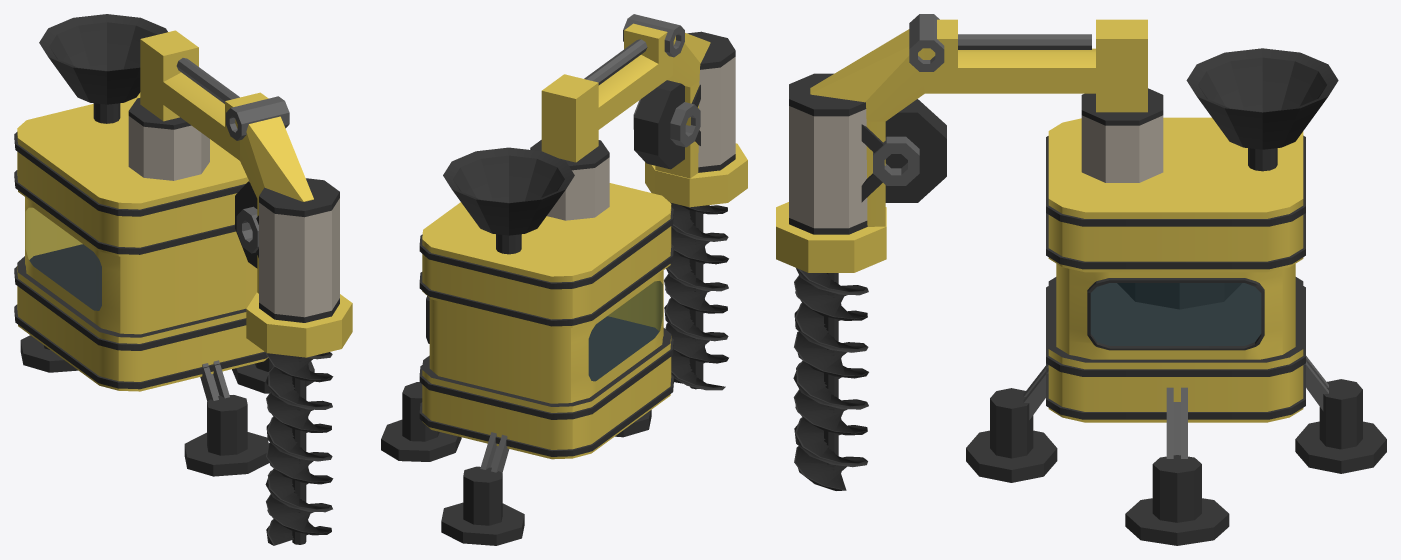
File: Anim_SolidExtractorCicle.fbx
3 views of the same model, side by side, from view 1: azimuth 30°, elevation 25°; view 2: azimuth 150°, elevation 25°; view 3: azimuth 270°, elevation 25° (orthographic). The views are drawn at different scales.
Visible parts, largest first — view 1: extract_solid, extract_solid7, extract_solid6, pCube10, pCylinder1, pCylinder6, pCone1, pCube21, pCylinder9, pCylinder2, extract_solid4, extract_solid5 (+9 smaller); view 2: extract_solid, extract_solid7, extract_solid6, pCube10, pCone1, pCylinder6, pCube20, pCylinder1, pCylinder2, pCylinder4, pCube19, pCylinder9 (+8 smaller); view 3: extract_solid, extract_solid6, pCube10, pCylinder6, pCylinder1, pCone1, extract_solid7, pCube19, pCylinder9, pCube20, pCube21, pCylinder2 (+9 smaller).
Part boxes in pixels (x1=…): extract_solid: x1=17, y1=92, x2=248, y2=256; extract_solid7: x1=25, y1=197, x2=257, y2=334; extract_solid6: x1=17, y1=244, x2=268, y2=391; pCube10: x1=140, y1=30, x2=313, y2=293; pCylinder1: x1=259, y1=178, x2=339, y2=322; pCylinder6: x1=265, y1=352, x2=333, y2=545; pCone1: x1=39, y1=14, x2=167, y2=104; pCube21: x1=184, y1=360, x2=269, y2=476; pCylinder9: x1=128, y1=98, x2=209, y2=180; pCylinder2: x1=246, y1=292, x2=352, y2=357; extract_solid4: x1=14, y1=304, x2=267, y2=389; extract_solid5: x1=14, y1=266, x2=246, y2=350; extract_solid: x1=422, y1=183, x2=671, y2=328; extract_solid7: x1=426, y1=270, x2=663, y2=403; extract_solid6: x1=422, y1=316, x2=671, y2=459; pCube10: x1=541, y1=23, x2=710, y2=178; pCone1: x1=443, y1=147, x2=574, y2=235; pCylinder6: x1=664, y1=202, x2=728, y2=390; pCube20: x1=441, y1=432, x2=524, y2=545; pCylinder1: x1=687, y1=31, x2=735, y2=172; pCylinder2: x1=645, y1=143, x2=747, y2=207; pCylinder4: x1=634, y1=80, x2=684, y2=169; pCube19: x1=381, y1=382, x2=461, y2=461; pCylinder9: x1=530, y1=140, x2=609, y2=220; extract_solid: x1=1048, y1=117, x2=1303, y2=272; extract_solid6: x1=1048, y1=277, x2=1303, y2=422; pCube10: x1=810, y1=19, x2=1147, y2=226; pCylinder6: x1=793, y1=268, x2=868, y2=490; pCylinder1: x1=789, y1=73, x2=867, y2=234; pCone1: x1=1186, y1=48, x2=1338, y2=149; extract_solid7: x1=1056, y1=263, x2=1295, y2=359; pCube19: x1=1125, y1=387, x2=1229, y2=545; pCylinder9: x1=1081, y1=88, x2=1163, y2=182; pCube20: x1=1295, y1=356, x2=1386, y2=473; pCube21: x1=966, y1=364, x2=1057, y2=482; pCylinder2: x1=776, y1=202, x2=886, y2=272.
Bounding box in the file's own units: 7.13 × 10.97 × 13.36.
